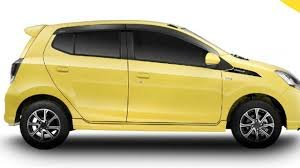mobil: (11, 18, 300, 162)
